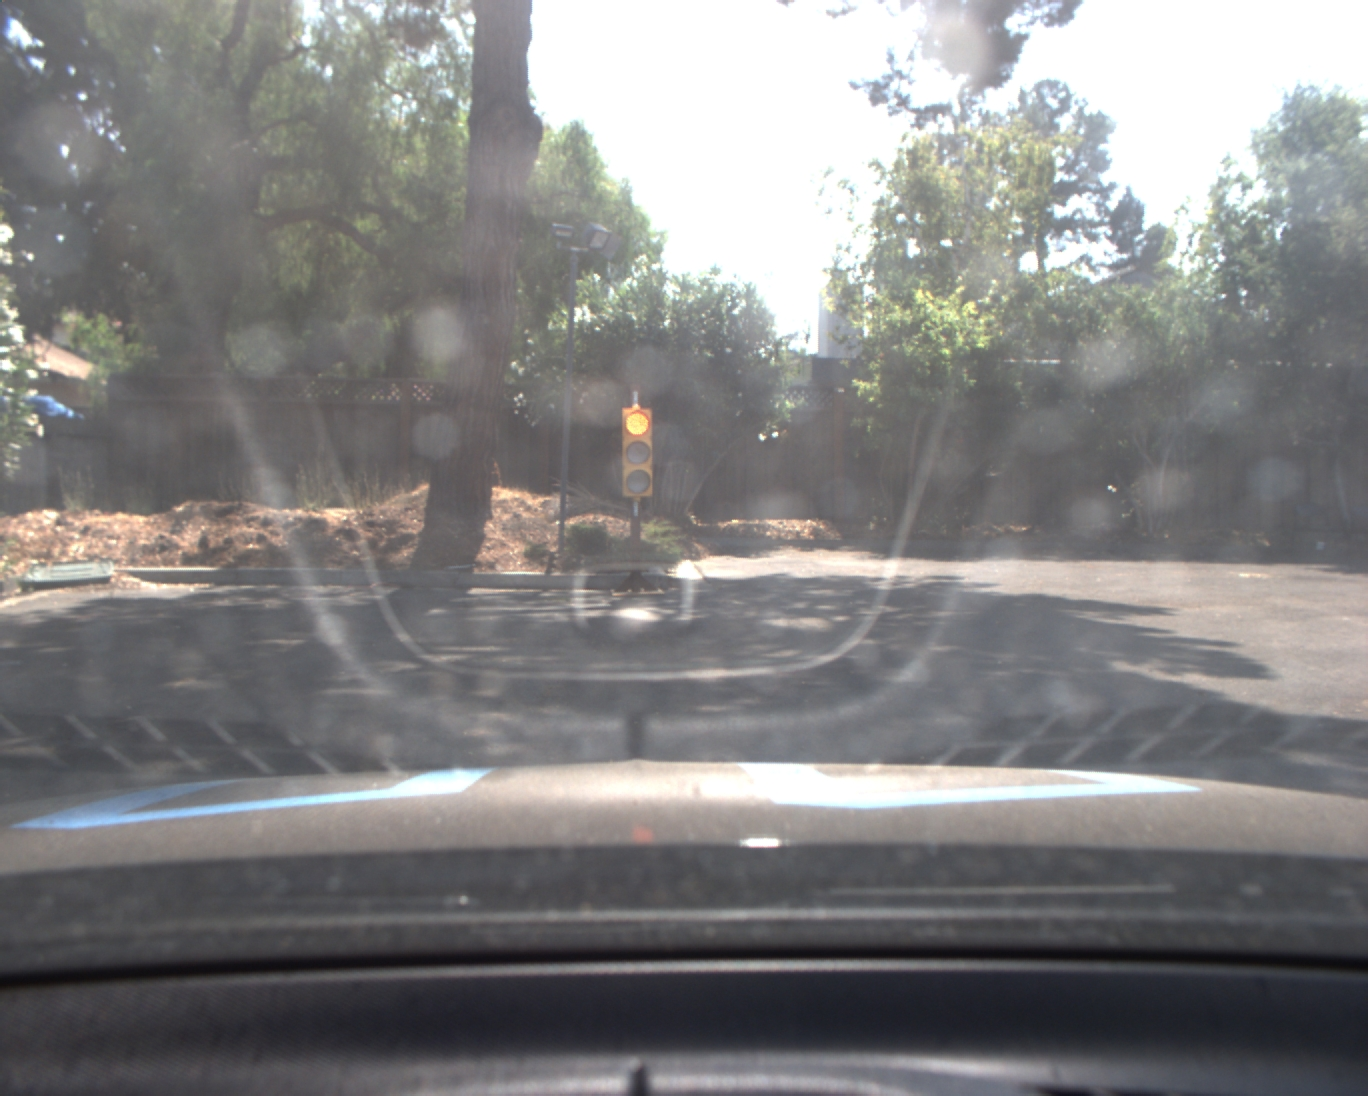red: (620, 403, 655, 501)
